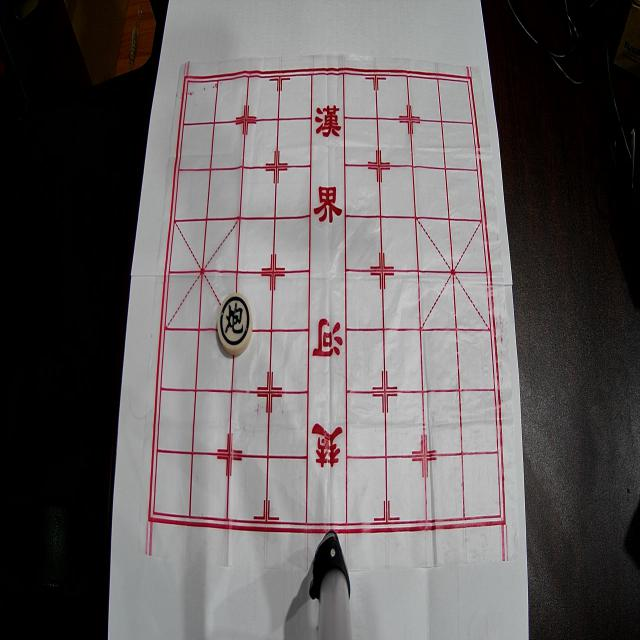black-cannon: (218, 293, 252, 355)
